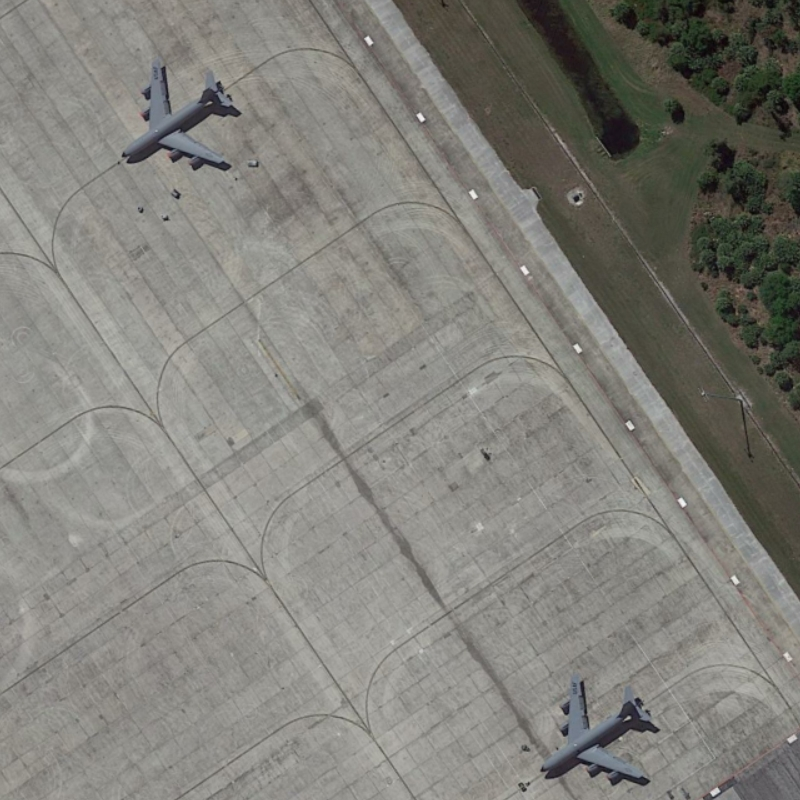A14: (115, 54, 243, 179), (534, 670, 655, 788)
